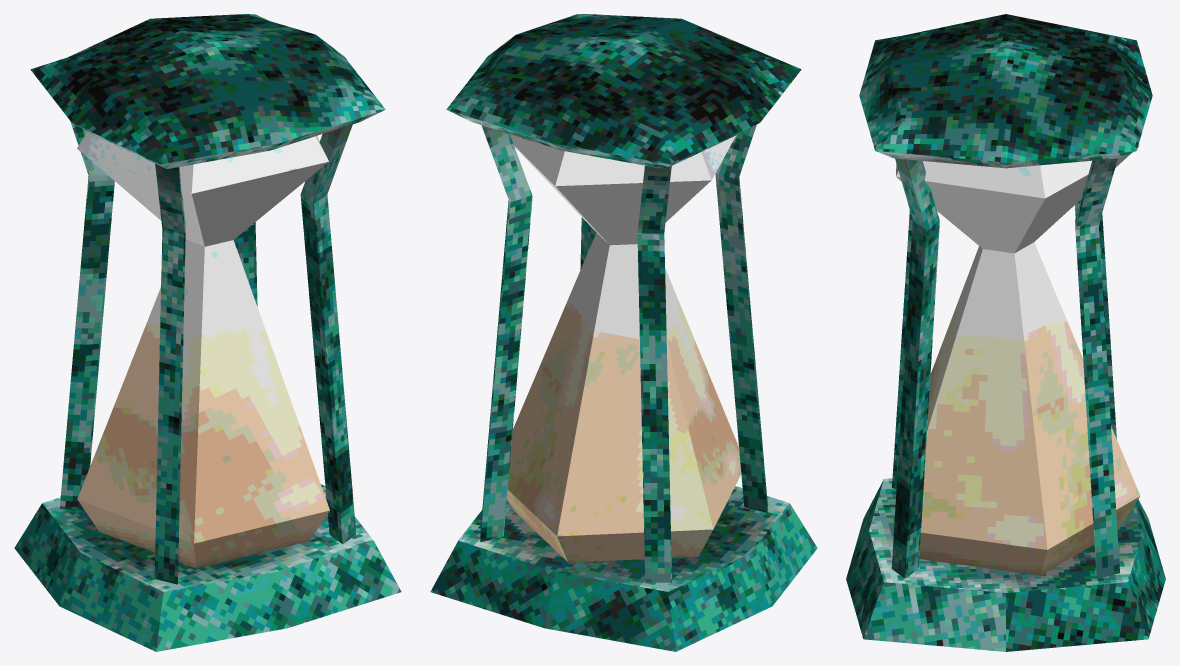
File: clock_station.glb
3 renders of one model, left to right at view 1: azimuth 30°, elevation 25°; view 2: azimuth 150°, elevation 25°; view 3: azimuth 270°, elevation 25°, orthographic.
Visible parts, largest first — view 1: Cube; view 2: Cube; view 3: Cube.
Boxes of the visible parts, x1,y1,x2,y2 form: Cube: (14,14,401,651); Cube: (430,14,817,651); Cube: (846,14,1165,651).
Size of the model in its own units: 4.14 by 7.03 by 3.84.
1 material, 1 textured.
